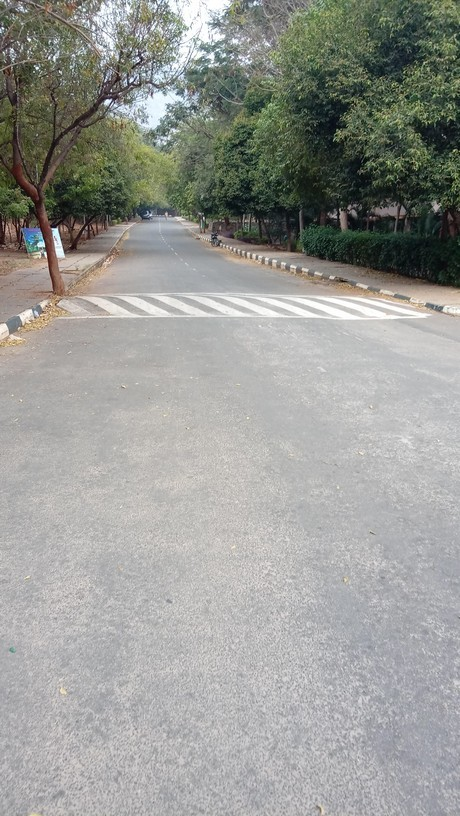bump: (45, 293, 429, 320)
